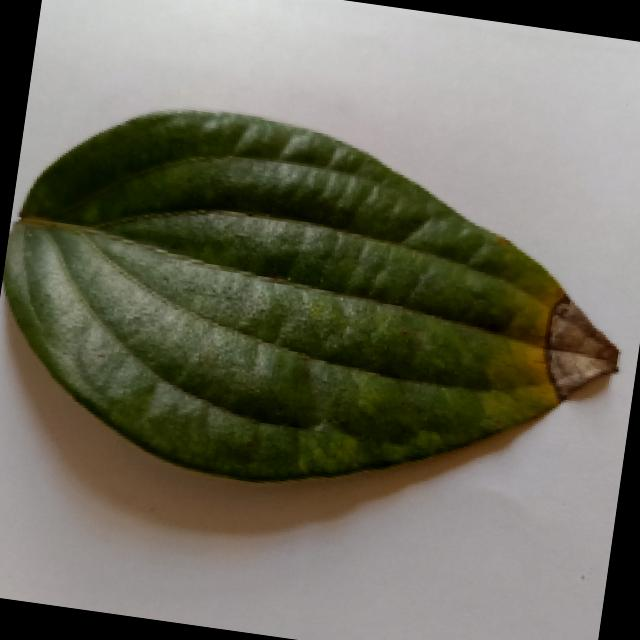footrot: (0, 85, 634, 519)
